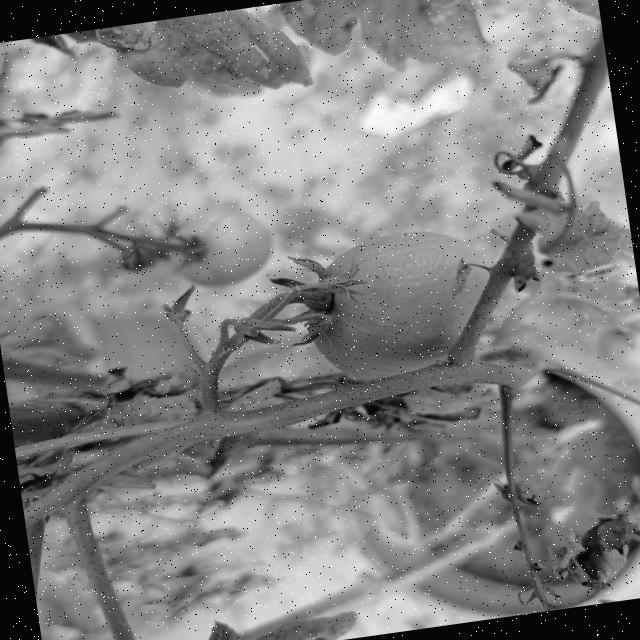Unripe: (292, 218, 503, 388), (164, 200, 276, 293)
